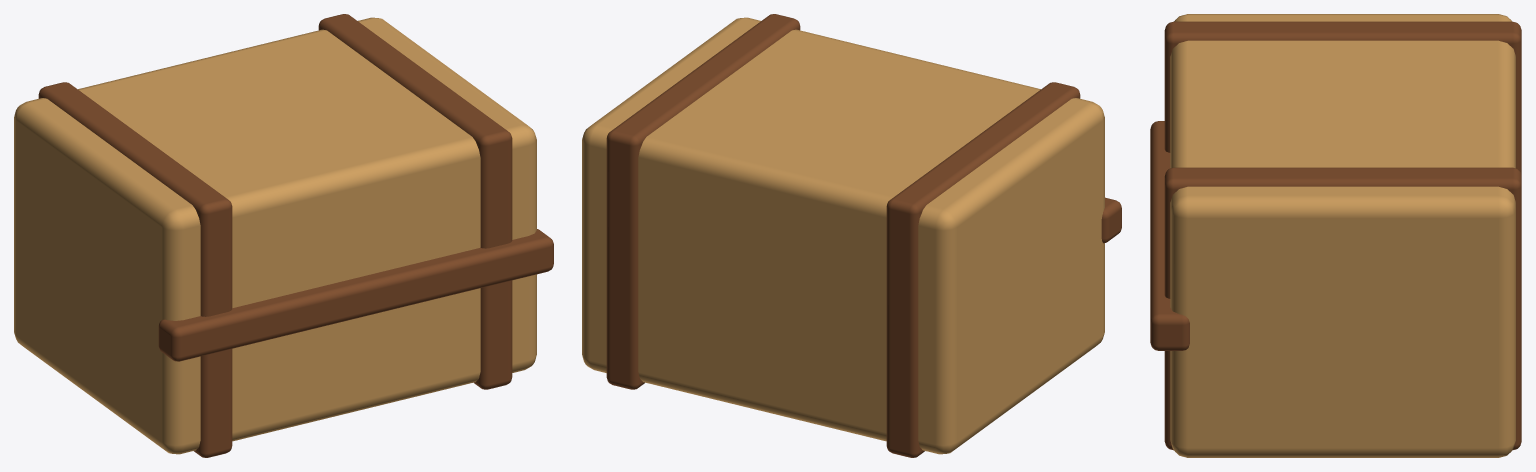
The model's file is crate.glb.
The picture shows the model from 3 angles, left to right: view 1: azimuth 30°, elevation 25°; view 2: azimuth 150°, elevation 25°; view 3: azimuth 270°, elevation 25°; orthographic projection. The views are drawn at different scales.
Parts seen in each view (by area): view 1: crate; view 2: crate; view 3: crate.
Boxes of the visible parts, left/top/right/bottom form: crate: left=14, top=14, right=553, bottom=457; crate: left=582, top=14, right=1121, bottom=457; crate: left=1150, top=14, right=1521, bottom=457.
Size of the model in its own units: 0.82 by 0.52 by 0.645.
